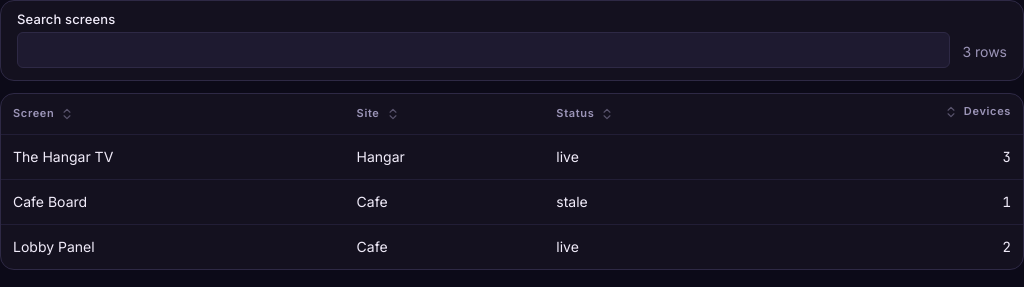
Test: DataTable — search › filters the rows to what was TYPED
Type "cafe" into the search field labelled "Search screens". click: (484, 50)
box: [17,32,950,68]
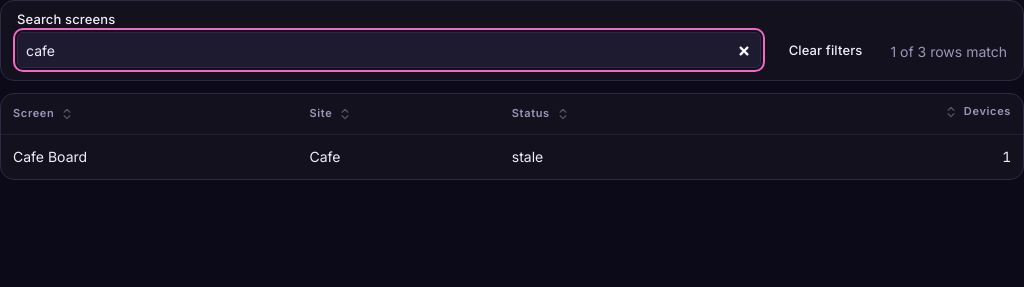
Expected: the text "Cafe Board" is shown, [1,134,297,178]
Now the text "The Hangar TV" is gone
Now the text "Lobby Panel" is gone
